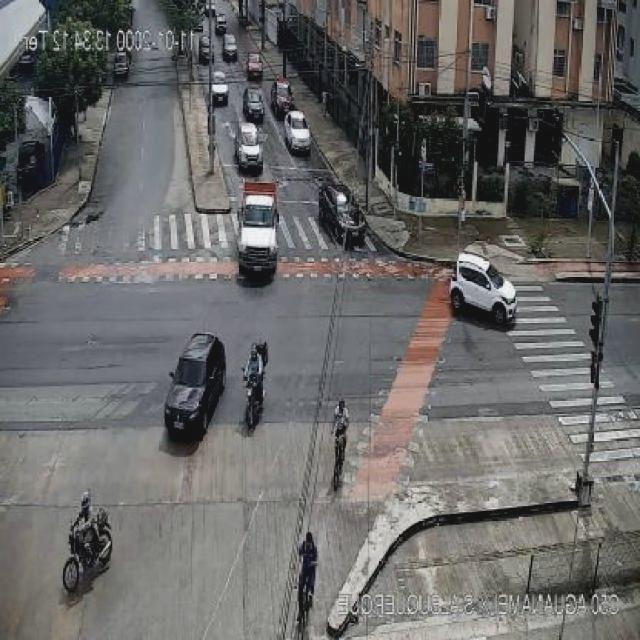Car: (154, 326, 235, 452), (446, 250, 522, 329), (314, 182, 368, 252), (230, 121, 267, 174), (281, 110, 315, 154), (266, 73, 298, 118), (203, 67, 234, 106), (240, 84, 266, 127), (245, 49, 272, 81), (216, 33, 243, 62)
Cycle: (50, 493, 128, 592), (278, 528, 332, 636), (318, 386, 368, 496), (232, 337, 286, 435)
Truck: (219, 174, 288, 279)
